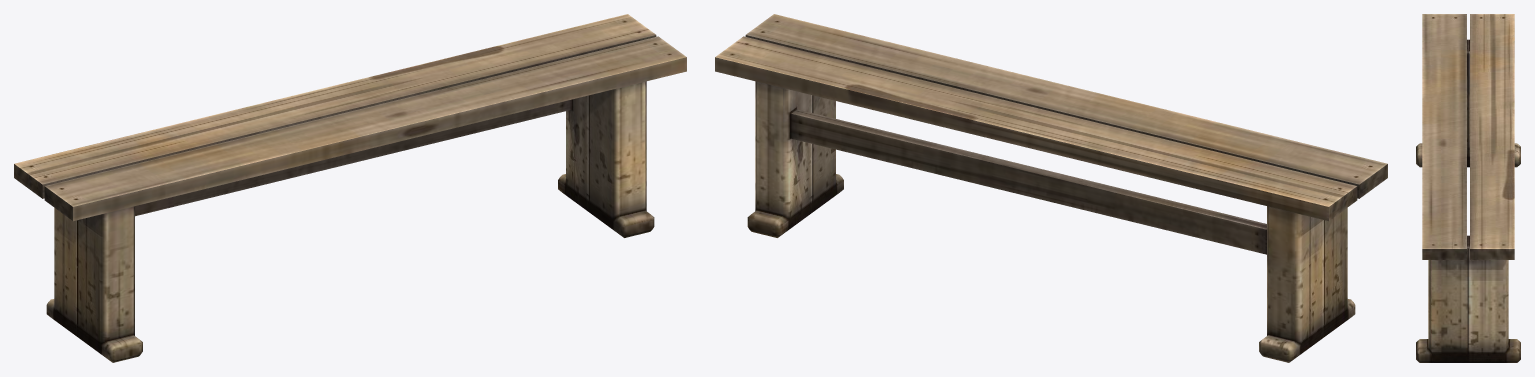
File: banco.glb
3 views of the same model, side by side, from view 1: azimuth 30°, elevation 25°; view 2: azimuth 150°, elevation 25°; view 3: azimuth 270°, elevation 25° (orthographic). The views are drawn at different scales.
Visible parts, largest first — view 1: banco; view 2: banco; view 3: banco.
Part boxes in pixels (box(x1,y1,x2,y2)): banco: box(14, 14, 686, 362); banco: box(715, 14, 1387, 362); banco: box(1416, 14, 1520, 362).
Size of the model in its own units: 1.8 by 0.46 by 0.34.
1 material, 1 textured.
